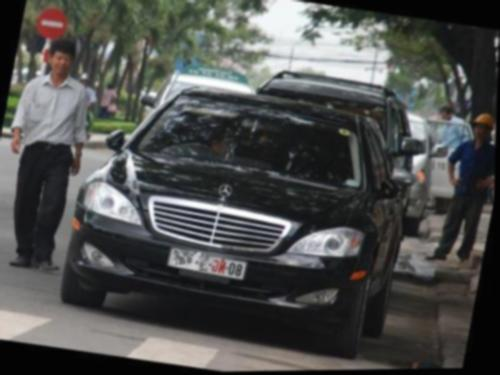License_Plate: (158, 242, 257, 283)
